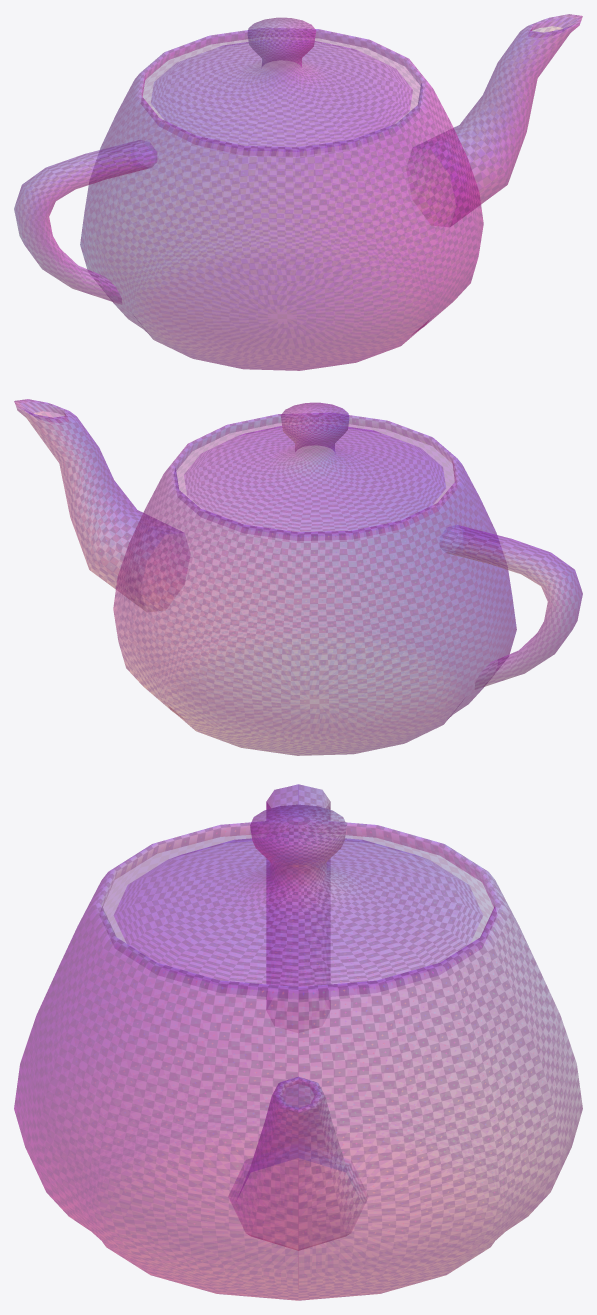
File: Teapot.gltf
The picture shows the model from 3 angles, top to bottom: view 1: azimuth 30°, elevation 25°; view 2: azimuth 150°, elevation 25°; view 3: azimuth 270°, elevation 25°; orthographic projection. The views are drawn at different scales.
Visible parts, largest first — view 1: Teapot; view 2: Teapot; view 3: Teapot.
Part boxes in pixels (bbox=[...]): Teapot: bbox=[14, 14, 582, 370]; Teapot: bbox=[14, 399, 582, 755]; Teapot: bbox=[14, 784, 582, 1300].
Size of the model in its own units: 8.04 by 3.94 by 5.
1 material, 1 textured.
